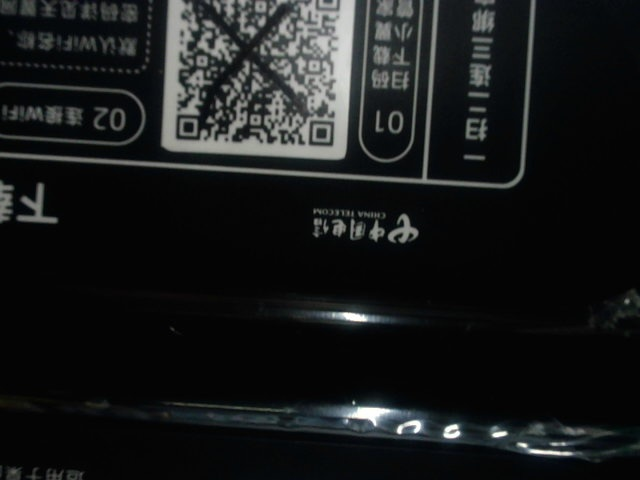AB_ChinaTelecom: (304, 198, 423, 250)
